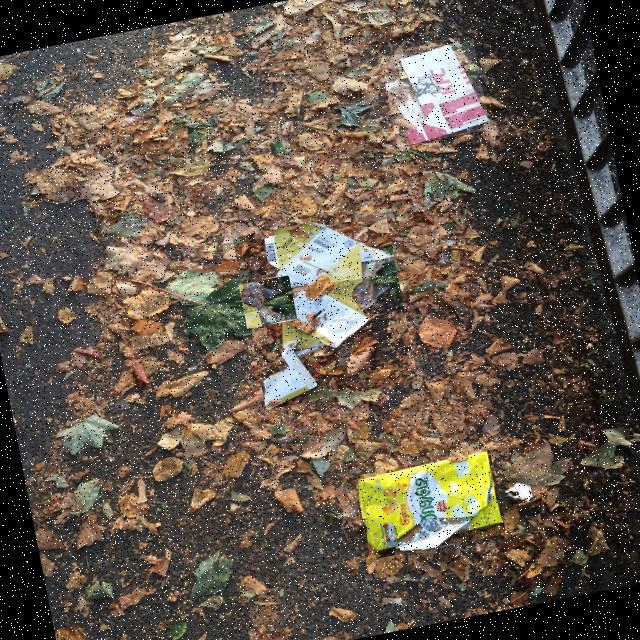Cigarette: (283, 122, 293, 135), (383, 599, 402, 605)
Crisp packet: (359, 451, 504, 552)
Meal carton: (265, 222, 393, 409), (385, 45, 489, 144)
Plastic film: (243, 282, 297, 326)
Unlabeled litter: (506, 482, 532, 501)
